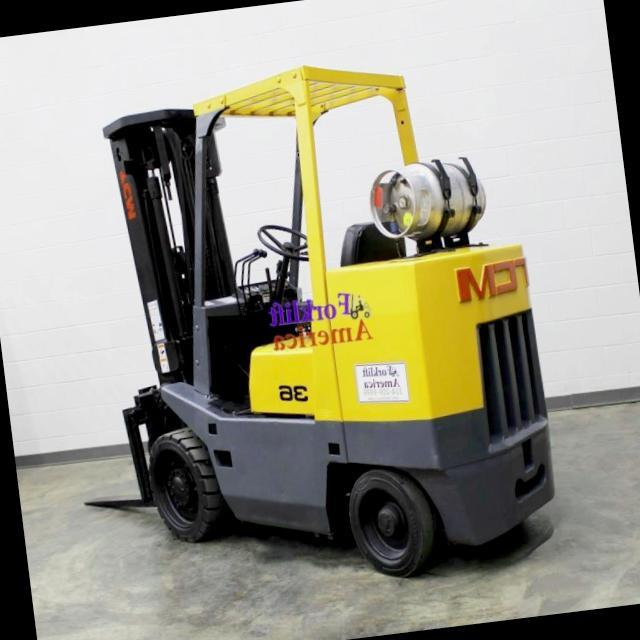forklift: (80, 17, 568, 616)
